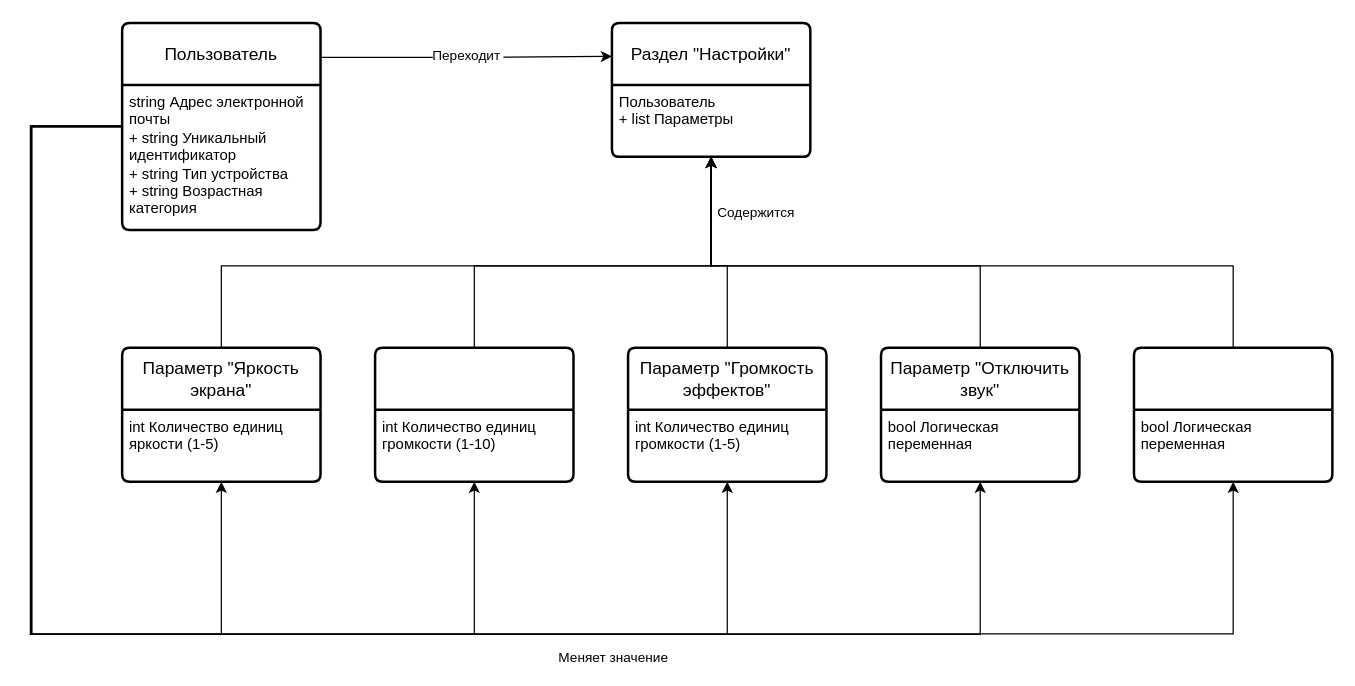
Image size: 1355x686. Some labels were removed from this diagram. Each missing label, with the box of its shape:
Параметр "Громкость музыки": (373, 346, 574, 482)
Параметр "Тема": (1132, 346, 1333, 482)
